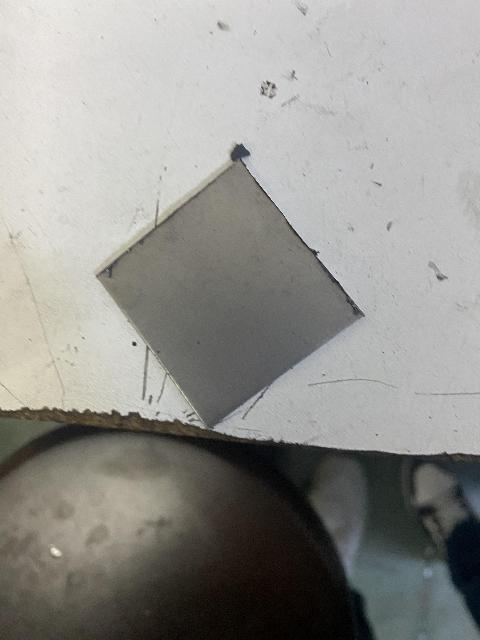Metal: (94, 157, 367, 429)
